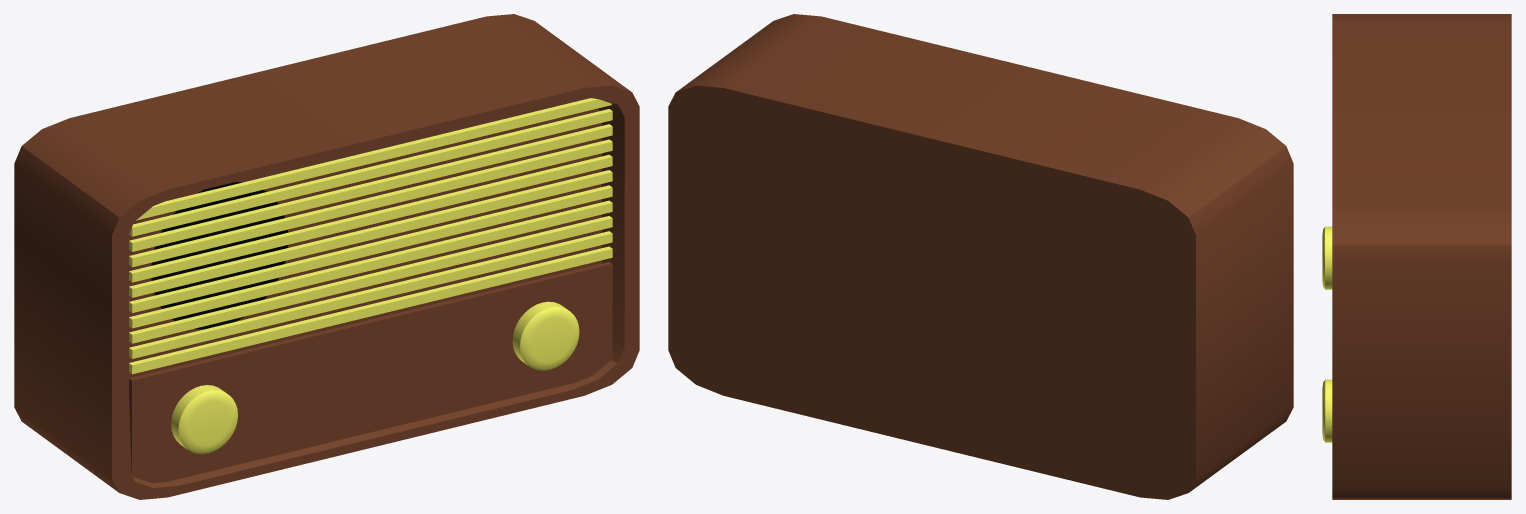
Rendered from Radio.fbx.
3 renders of one model, left to right at view 1: azimuth 30°, elevation 25°; view 2: azimuth 150°, elevation 25°; view 3: azimuth 270°, elevation 25°, orthographic. The views are drawn at different scales.
Parts seen in each view (by area): view 1: Radio; view 2: Radio; view 3: Radio.
Boxes of the visible parts, box(x1,y1,x2,y2) form: Radio: box(14, 14, 639, 499); Radio: box(668, 14, 1293, 499); Radio: box(1322, 14, 1511, 499).
Size of the model in its own units: 74.45 by 41.49 by 25.23.
